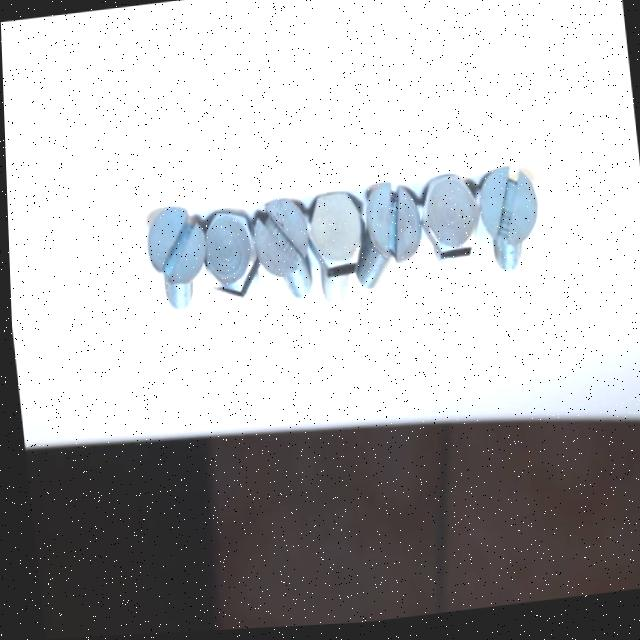Slotted: (139, 196, 211, 297), (474, 160, 549, 251), (364, 168, 429, 272), (254, 191, 315, 283)
